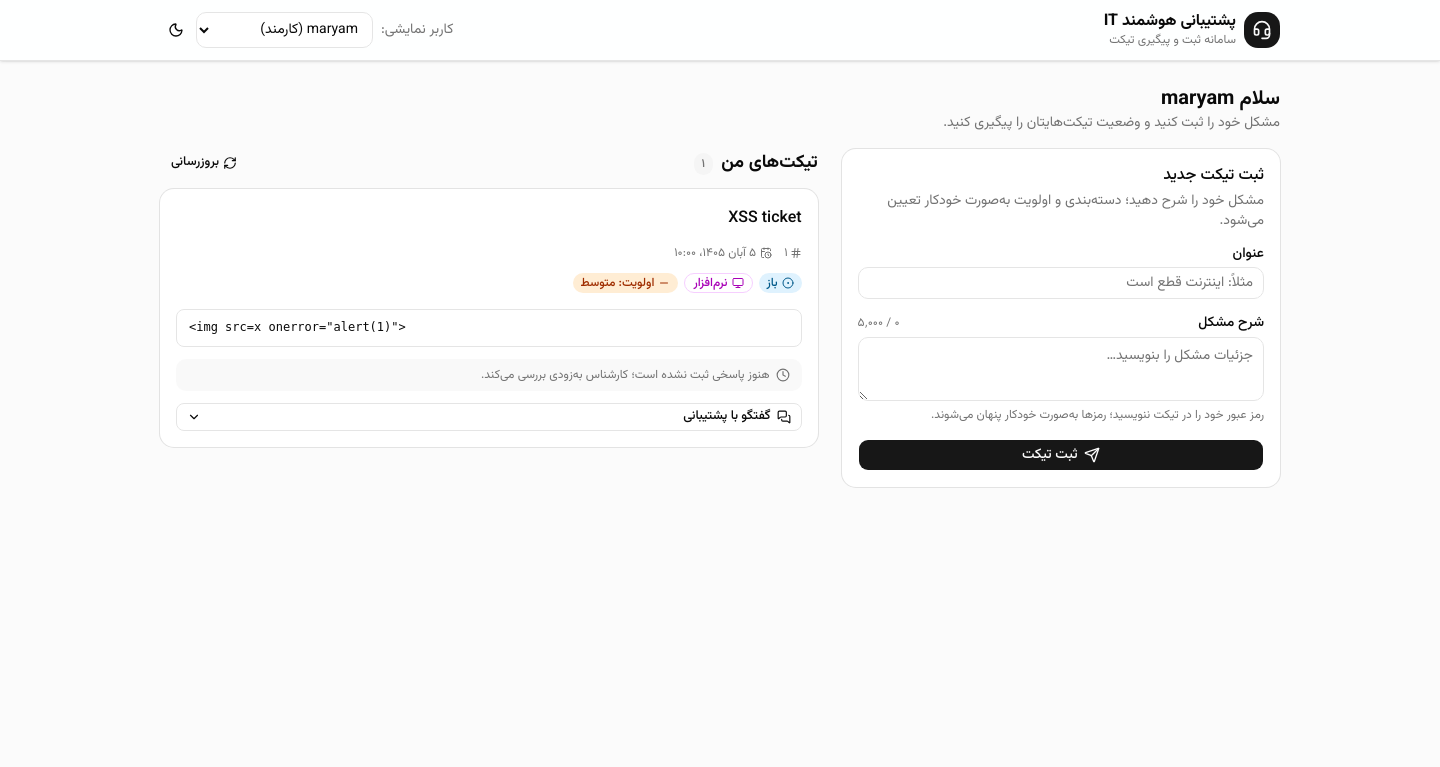
role-based views › switches to the IT dashboard and shows the AI source badge
Check: the text "ثبت تیکت جدید" is shown, box x1=1163 y1=163 x2=1264 y2=188
Select "it_admin (پشتیبانی IT)" in the dropdown named "انتخاب کاربر": (284,30) x1=196 y1=12 x2=373 y2=48
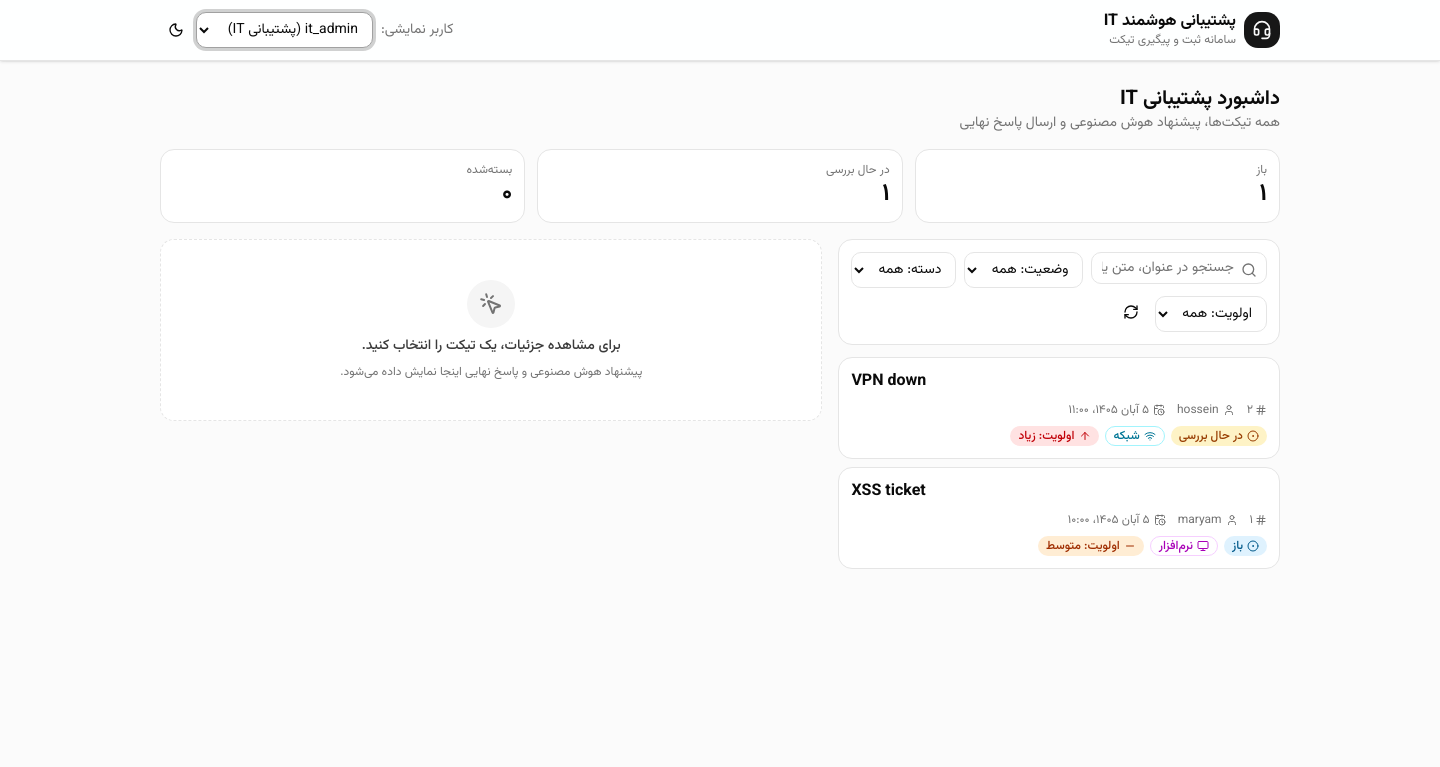
Check: the heading "داشبورد پشتیبانی IT" is shown, box x1=1120 y1=83 x2=1280 y2=115
Check: the number of buttons with test id "it-ticket-row" is 2
Check: the text "ثبت تیکت جدید" is gone
Click the button with test id "it-ticket-row": (889,492) x1=838 y1=467 x2=1280 y2=569
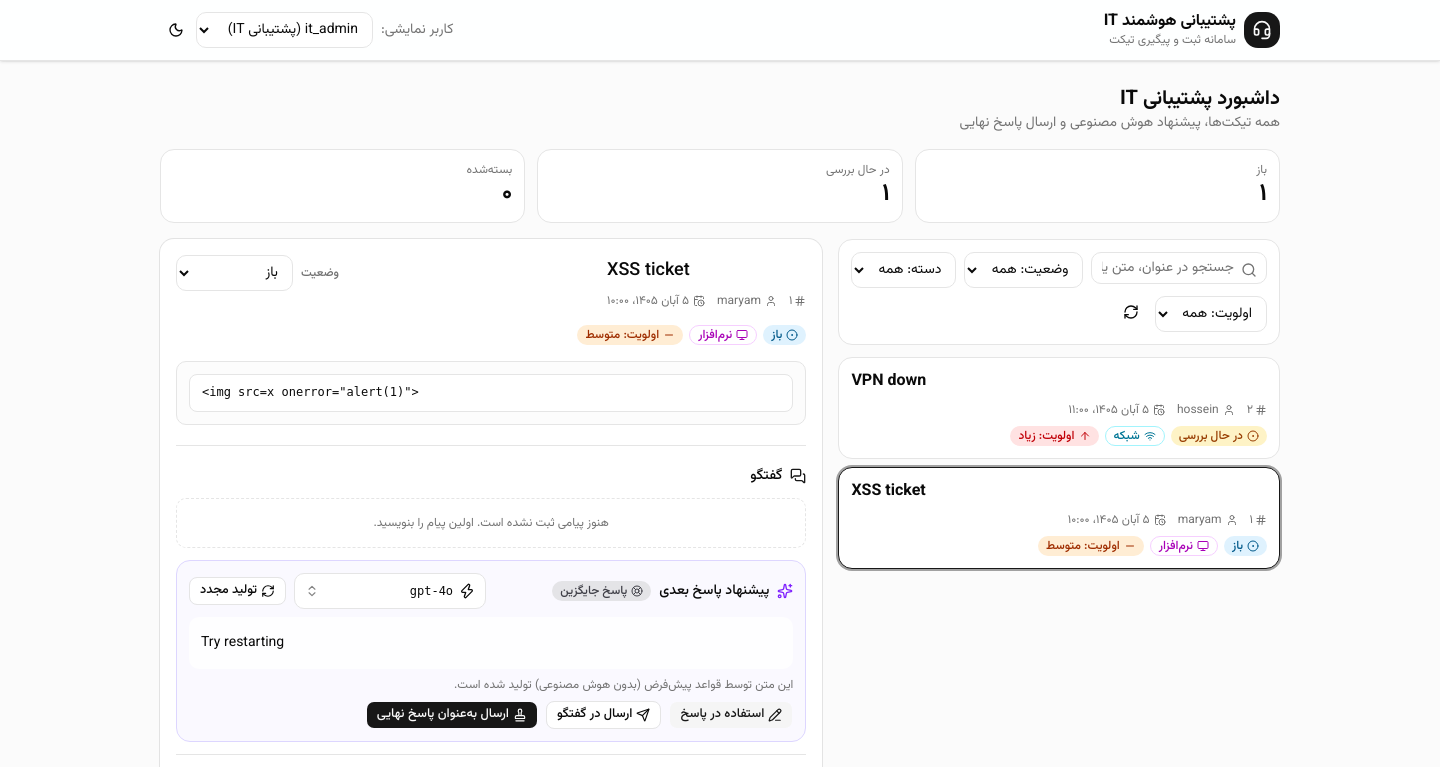
Check: the element with test id "source-badge" reads "پاسخ جایگزین", box x1=560 y1=582 x2=627 y2=600
